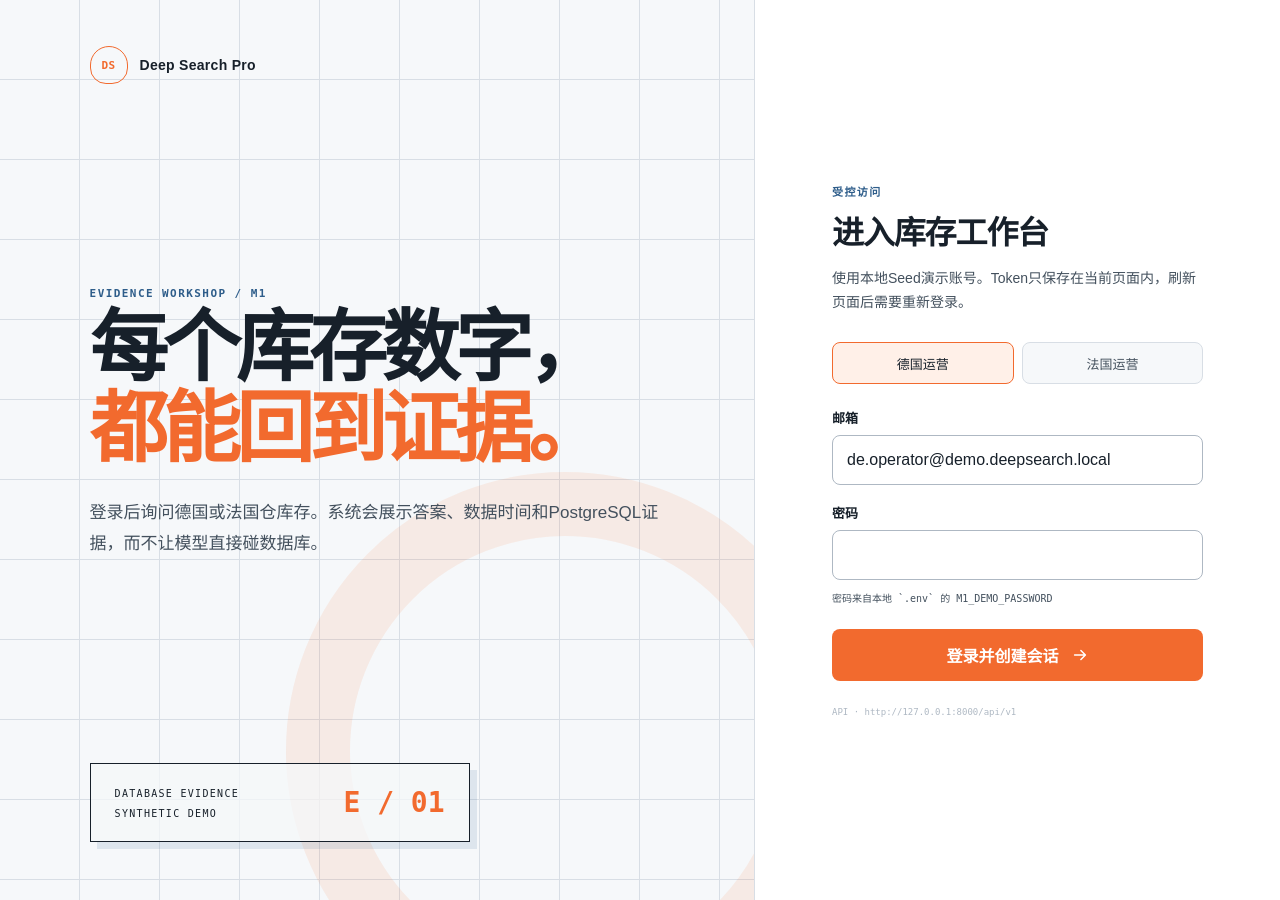
Test: InventoryWorkbench › shows the demo login and bounded empty state
The image size is (1280, 900).
Expected: the heading "每个库存数字， 都能回到证据。" is shown, [90,308,665,469]
Expected: the text "SYNTHETIC DEMO" is shown, [115,808,217,819]
Type "M1-demo-only-change-me" into the password field labelled "密码" at x=1018, y=555, box [832,530,1203,580]
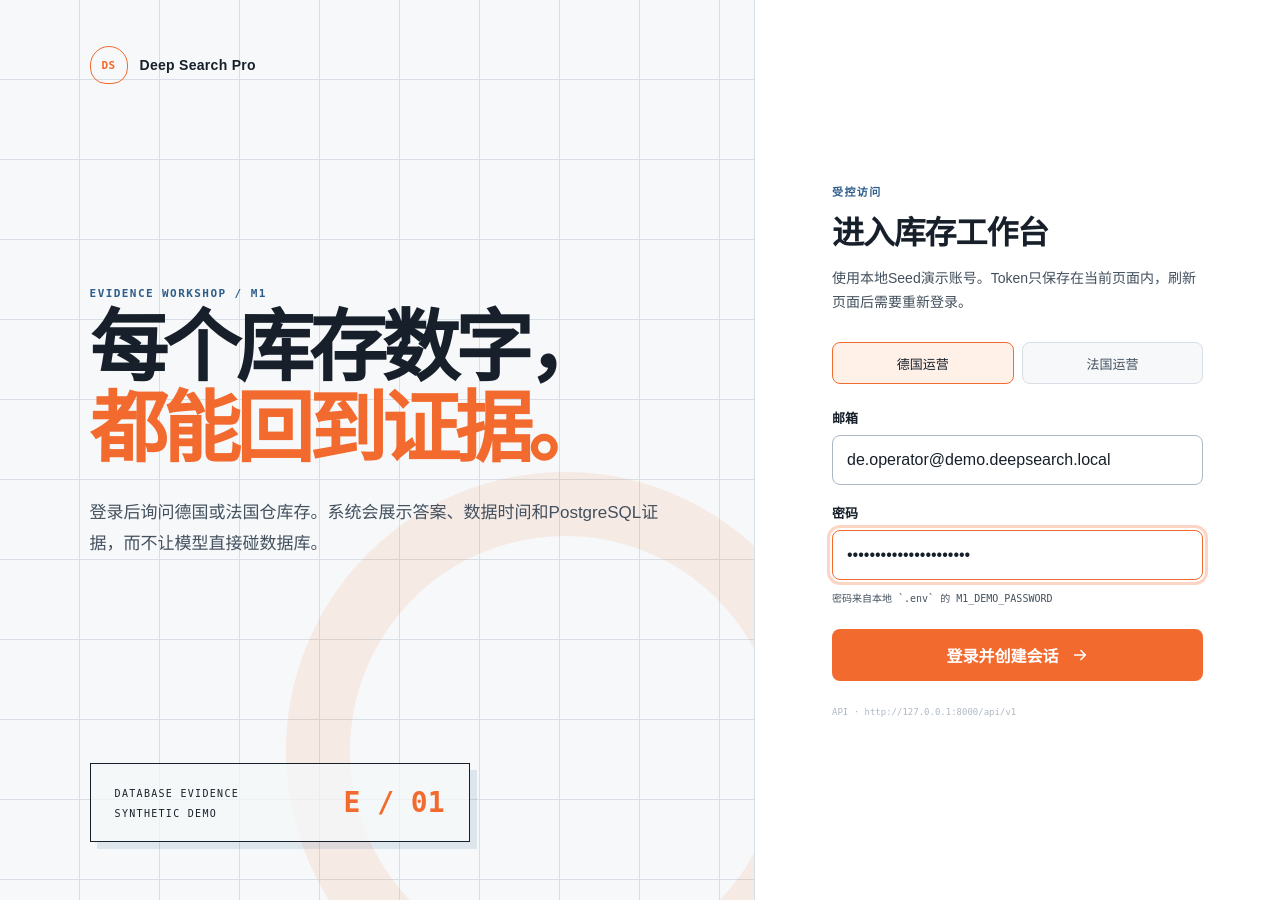
Click the button "登录并创建会话" at x=1018, y=655, box [832,629,1203,681]
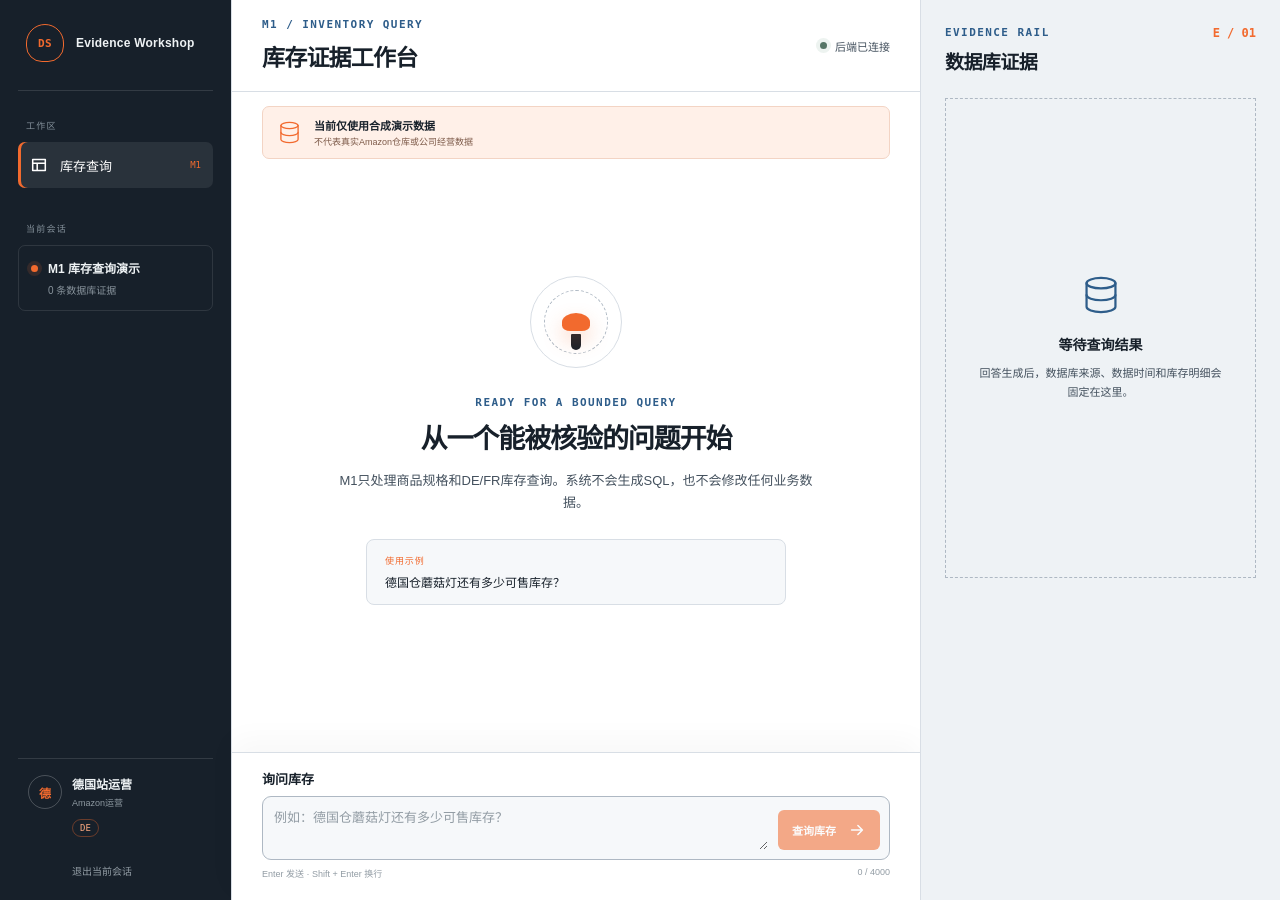
Now the heading "从一个能被核验的问题开始" is shown, box [420,417,732,456]
Now the text "当前仅使用合成演示数据" is shown, box [314,120,435,132]
